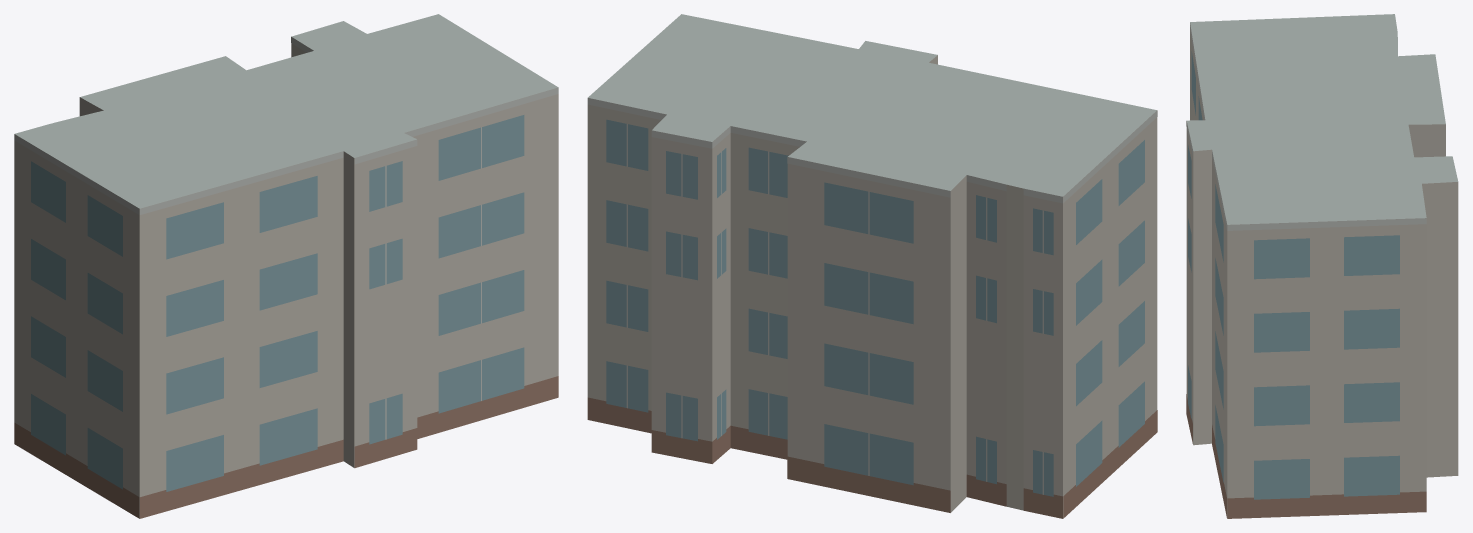
File: survey-upis-32998648.glb
3 renders of one model, left to right at view 1: azimuth 30°, elevation 25°; view 2: azimuth 150°, elevation 25°; view 3: azimuth 270°, elevation 25°, orthographic. The views are drawn at different scales.
Parts seen in each view (by area): view 1: survey-upis-32998648.tmp; view 2: survey-upis-32998648.tmp; view 3: survey-upis-32998648.tmp.
Boxes of the visible parts, x1,y1,x2,y2 form: survey-upis-32998648.tmp: (14, 14, 558, 518); survey-upis-32998648.tmp: (587, 14, 1157, 518); survey-upis-32998648.tmp: (1186, 14, 1458, 518).
Bounding box in the file's own units: 18.05 × 11.73 × 9.84.
